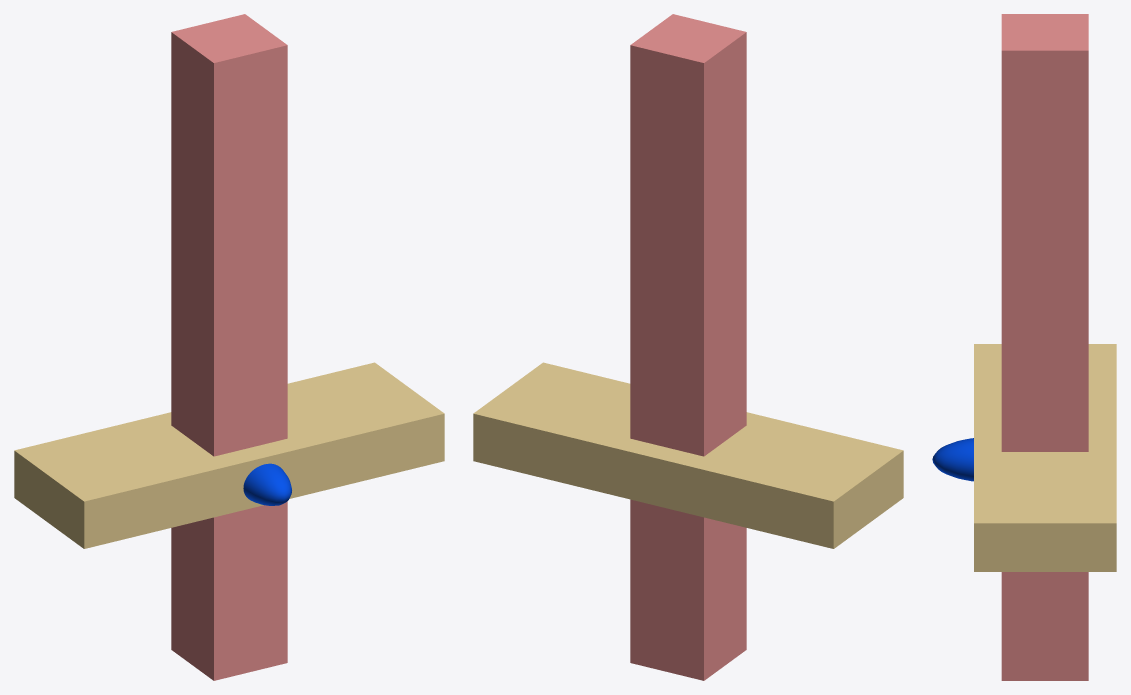
The model's file is sword.fbx.
The picture shows the model from 3 angles, left to right: view 1: azimuth 30°, elevation 25°; view 2: azimuth 150°, elevation 25°; view 3: azimuth 270°, elevation 25°; orthographic projection. The views are drawn at different scales.
Parts seen in each view (by area): view 1: pSphere2; view 2: pSphere2; view 3: pSphere2.
Part boxes in pixels (x1,y1,x2,y2): pSphere2: (14, 14, 444, 680); pSphere2: (473, 14, 903, 680); pSphere2: (932, 14, 1116, 680).
Bounding box in the file's own units: 1.22 × 2 × 0.5295.
